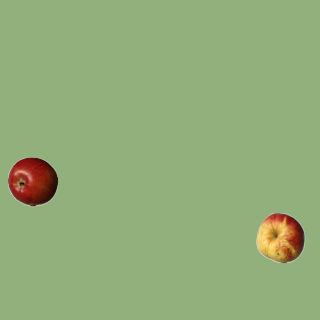Apple Braeburn: (7, 156, 57, 206)
Apple Red Yellow 1: (255, 212, 305, 262)
